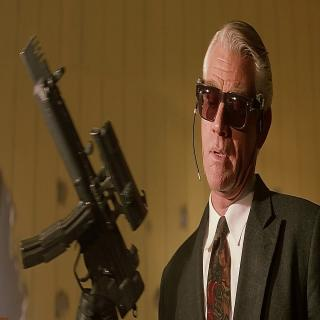gun: (17, 26, 141, 320)
